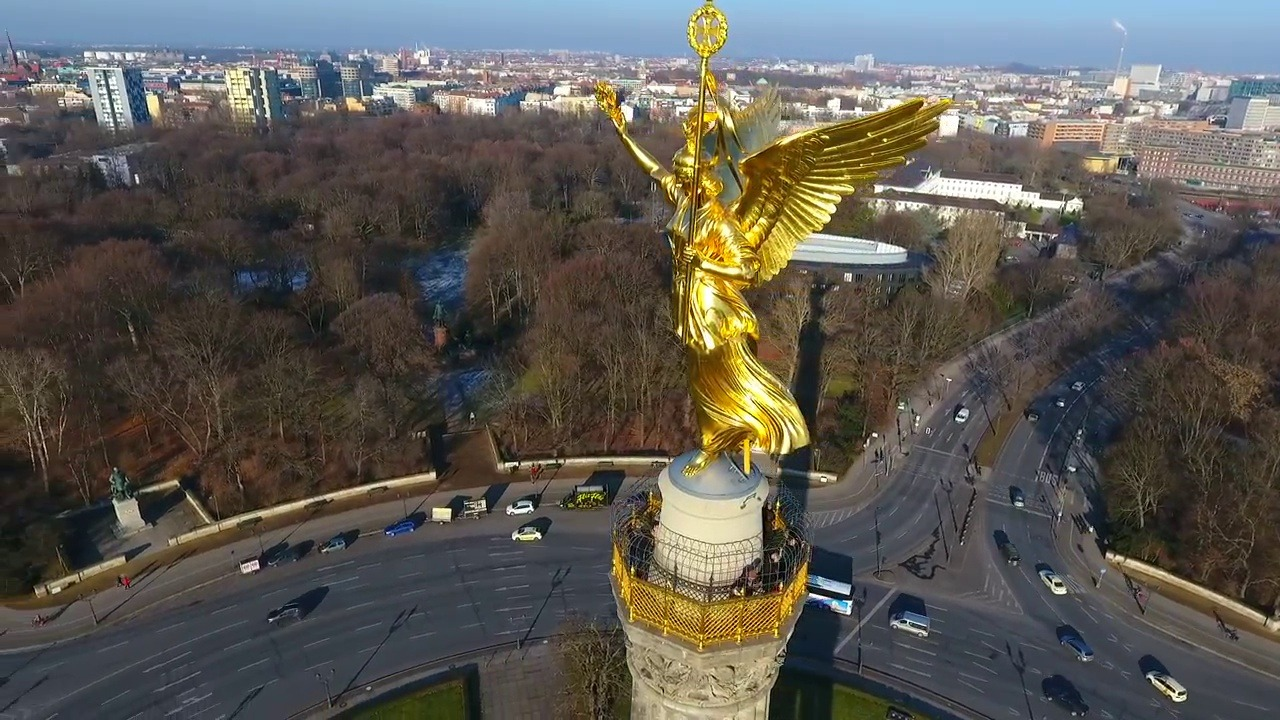car: (1139, 662, 1189, 708), (1056, 628, 1099, 665), (1034, 563, 1072, 599), (502, 493, 543, 520), (507, 521, 548, 544)
van: (885, 605, 934, 642)
